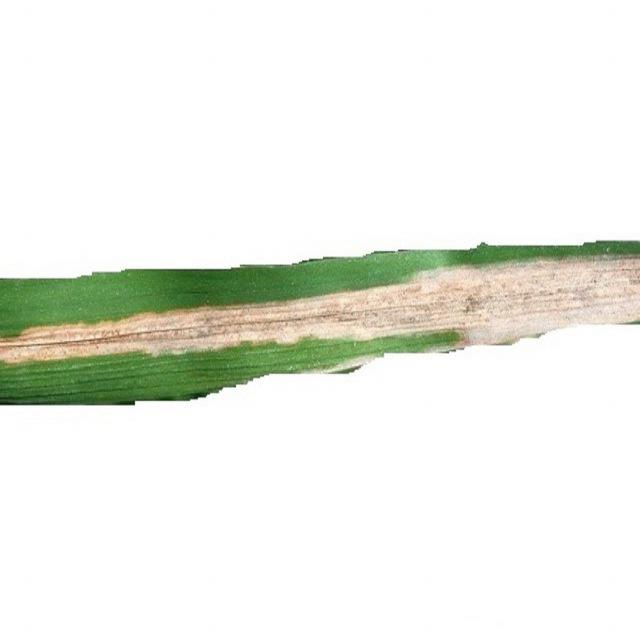bacterial_leaf_blight: (1, 255, 640, 362)
